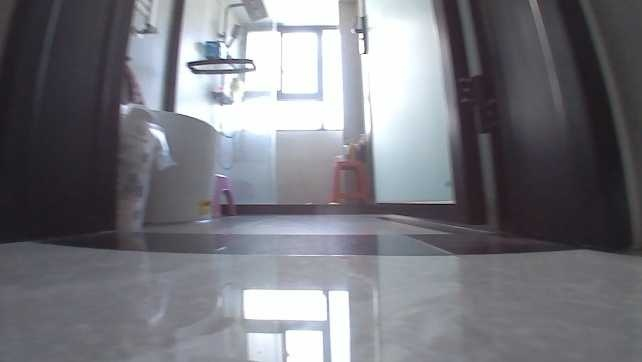door_anno: (348, 0, 640, 249)
door_sill: (235, 199, 371, 215)
plastic_stool: (325, 159, 368, 203), (213, 172, 235, 218)
toilet: (135, 101, 216, 224)
